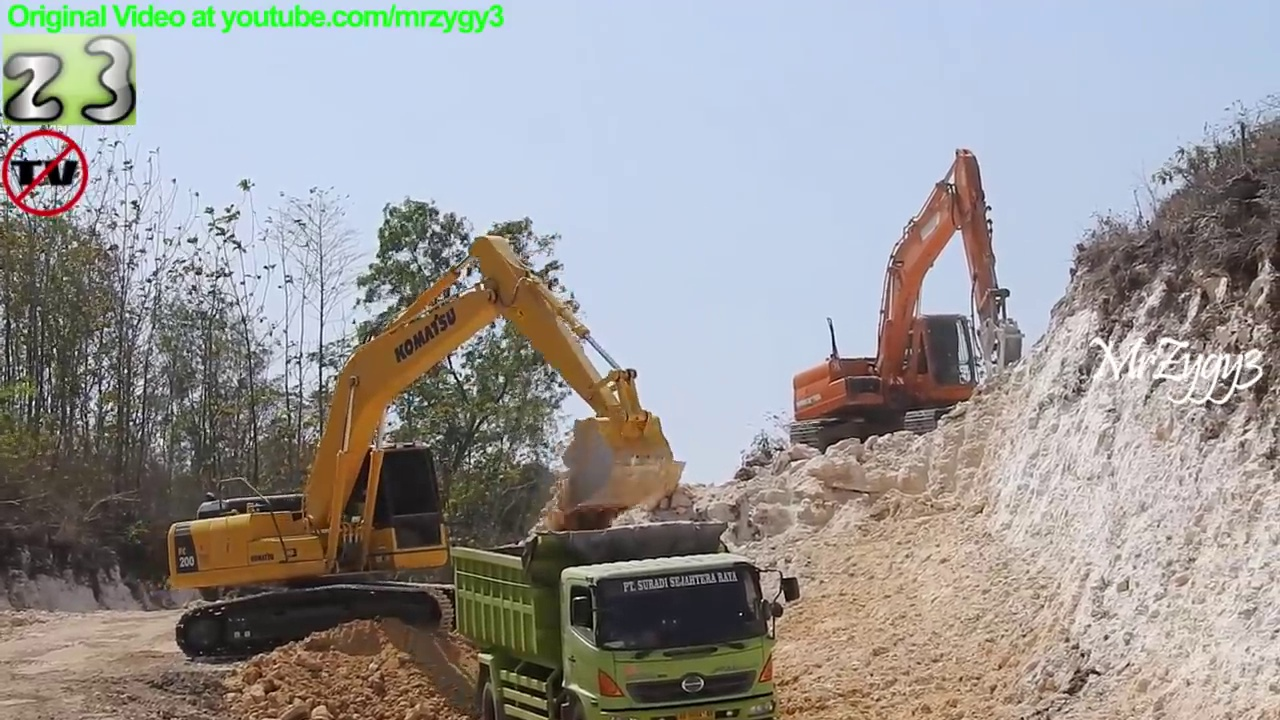excavator: (160, 231, 695, 668), (786, 143, 1034, 464)
truck: (446, 519, 806, 720)
